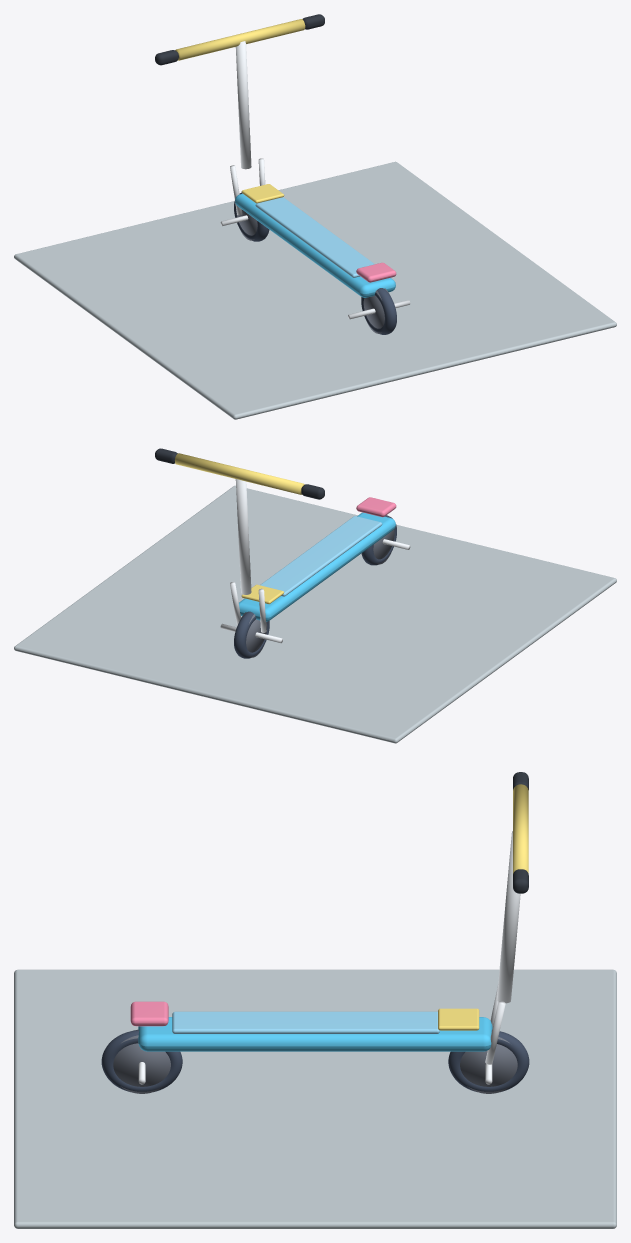
File: shop_kickboard_blue.fbx
3 views of the same model, one above another, from view 1: azimuth 30°, elevation 25°; view 2: azimuth 150°, elevation 25°; view 3: azimuth 270°, elevation 25° (orthographic). The views are drawn at different scales.
Parts seen in each view (by area): view 1: BusPop Live Display Base, BusPop Live Kickboard Deck Top Pad, BusPop Live Kickboard Long Low Deck, BusPop Live Kickboard T Handlebar, BusPop Live Kickboard Upright Stem, BusPop Live Kickboard Rear Tire, BusPop Live Kickboard Rear Wheel Disc, BusPop Live Kickboard Rear Brake; view 2: BusPop Live Display Base, BusPop Live Kickboard Deck Top Pad, BusPop Live Kickboard Long Low Deck, BusPop Live Kickboard T Handlebar, BusPop Live Kickboard Upright Stem, BusPop Live Kickboard Front Tire, BusPop Live Kickboard Rear Brake, BusPop Live Kickboard Front Wheel Disc, BusPop Live Kickboard Nose Accent; view 3: BusPop Live Display Base, BusPop Live Kickboard Long Low Deck, BusPop Live Kickboard Deck Top Pad, BusPop Live Kickboard Rear Wheel Disc, BusPop Live Kickboard Upright Stem, BusPop Live Kickboard Front Wheel Disc, BusPop Live Kickboard Rear Tire, BusPop Live Kickboard Front Tire, BusPop Live Kickboard T Handlebar, BusPop Live Kickboard Rear Brake, BusPop Live Kickboard Nose Accent.
Part boxes in pixels (box(x1,y1,x2,y2)): BusPop Live Display Base: box(14, 161, 616, 419); BusPop Live Kickboard Deck Top Pad: box(255, 197, 374, 277); BusPop Live Kickboard Long Low Deck: box(235, 193, 395, 297); BusPop Live Kickboard T Handlebar: box(175, 19, 305, 60); BusPop Live Kickboard Upright Stem: box(235, 41, 251, 169); BusPop Live Kickboard Rear Tire: box(361, 288, 396, 334); BusPop Live Kickboard Rear Wheel Disc: box(363, 288, 391, 333); BusPop Live Kickboard Rear Brake: box(356, 262, 396, 282); BusPop Live Display Base: box(14, 485, 616, 743); BusPop Live Kickboard Deck Top Pad: box(260, 516, 382, 596); BusPop Live Kickboard Long Low Deck: box(239, 512, 395, 621); BusPop Live Kickboard T Handlebar: box(175, 453, 304, 494); BusPop Live Kickboard Upright Stem: box(235, 479, 251, 594); BusPop Live Kickboard Front Tire: box(234, 611, 269, 658); BusPop Live Kickboard Rear Brake: box(356, 497, 396, 517); BusPop Live Kickboard Front Wheel Disc: box(240, 612, 267, 657); BusPop Live Kickboard Nose Accent: box(241, 584, 284, 604); BusPop Live Display Base: box(14, 969, 616, 1228); BusPop Live Kickboard Long Low Deck: box(138, 1017, 492, 1051); BusPop Live Kickboard Deck Top Pad: box(172, 1011, 439, 1033); BusPop Live Kickboard Rear Wheel Disc: box(113, 1029, 170, 1093); BusPop Live Kickboard Upright Stem: box(496, 831, 520, 1003); BusPop Live Kickboard Front Wheel Disc: box(460, 1037, 517, 1093); BusPop Live Kickboard Rear Tire: box(101, 1030, 182, 1092); BusPop Live Kickboard Front Tire: box(448, 1031, 529, 1092); BusPop Live Kickboard T Handlebar: box(513, 784, 528, 873); BusPop Live Kickboard Rear Brake: box(130, 1001, 168, 1026); BusPop Live Kickboard Nose Accent: box(438, 1008, 479, 1030).
Size of the model in its own units: 320 by 162 by 320.
